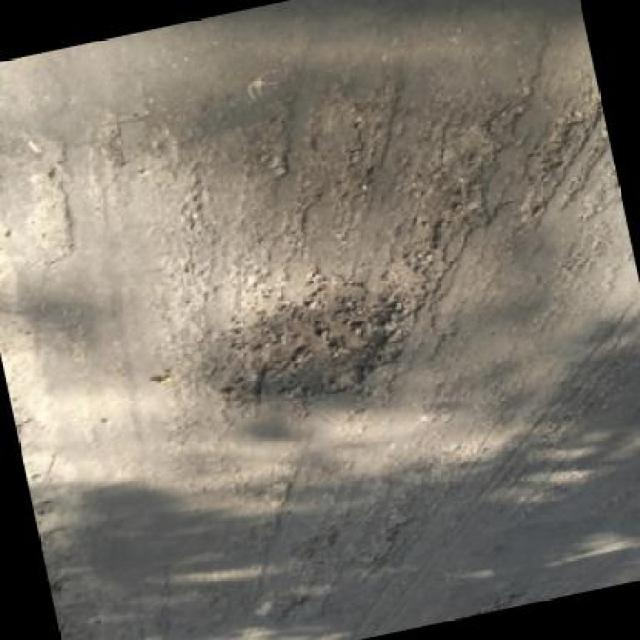pothole: (199, 265, 418, 421)
